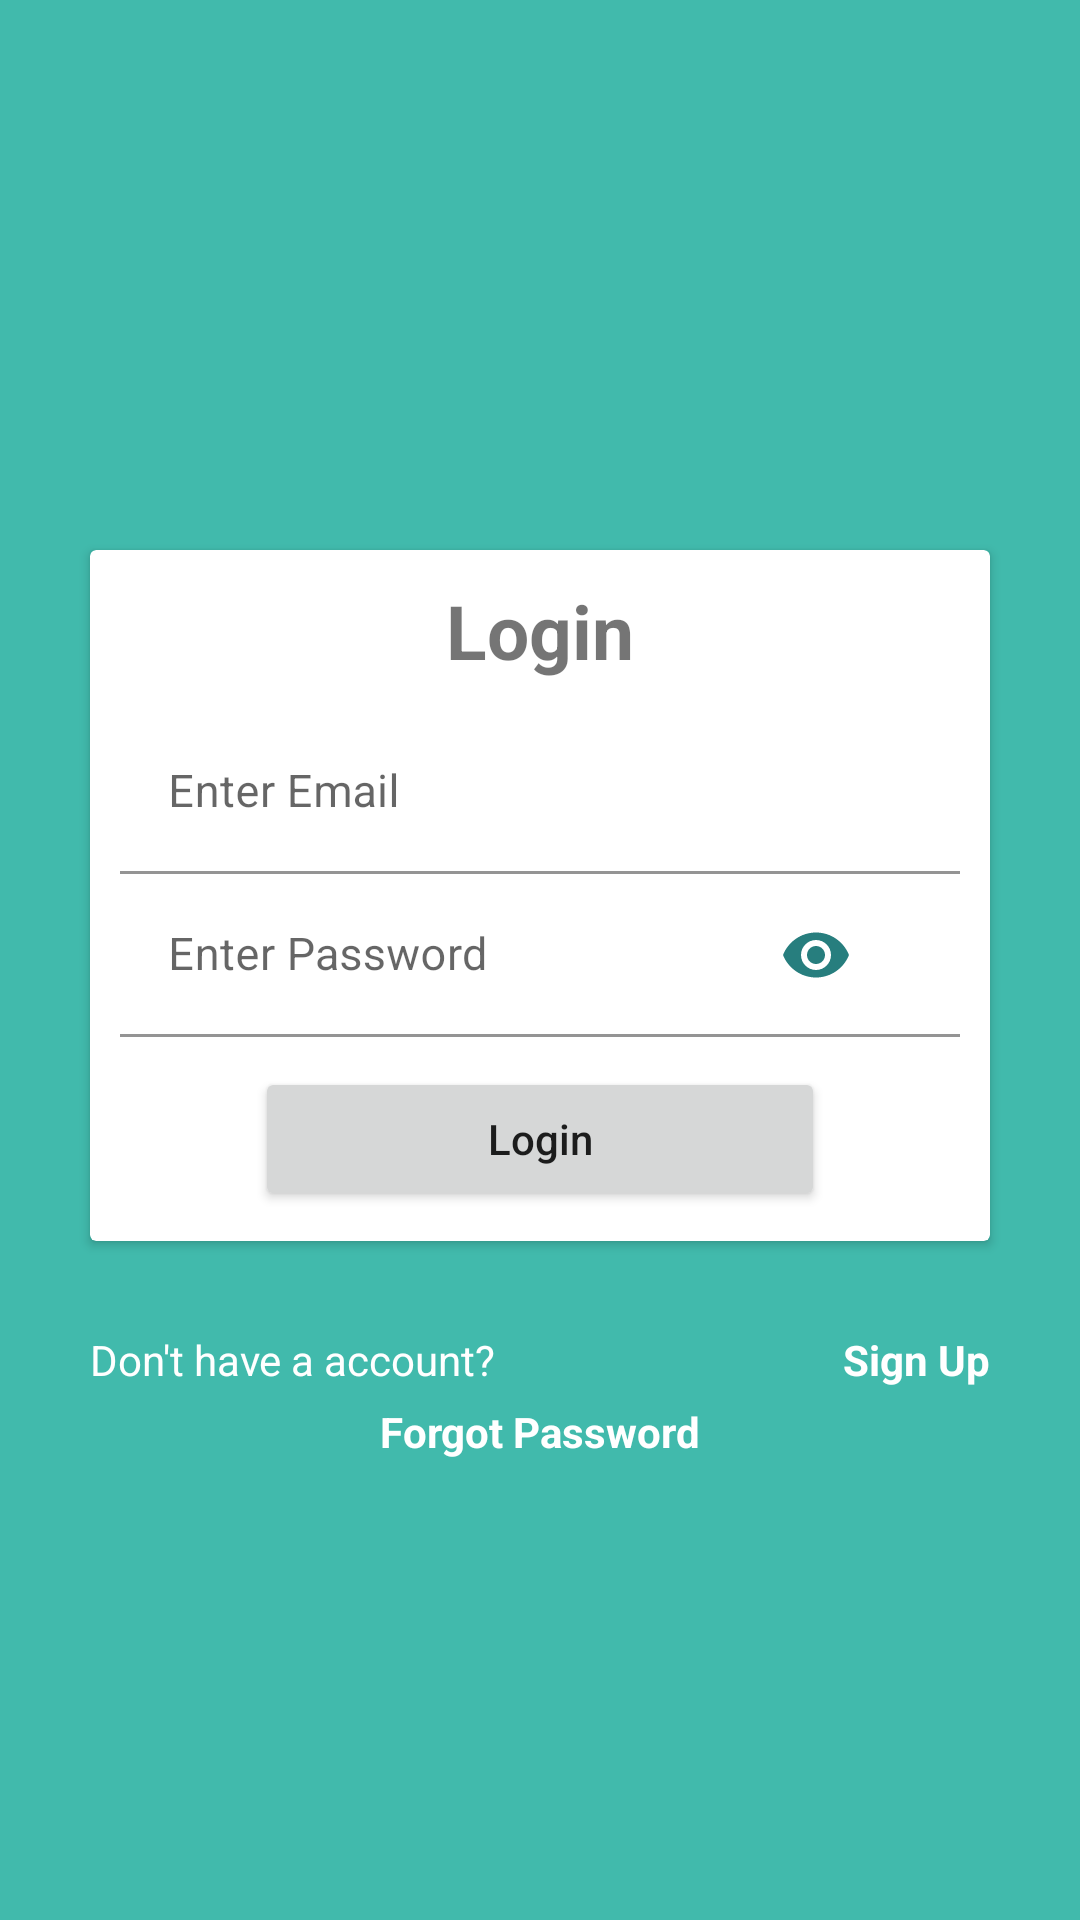

Icon bounding boxes for this 1080px x 1920px phone screenshot, format box=[x1, y1, x2, y2]:
eye: box=[783, 932, 849, 978]
